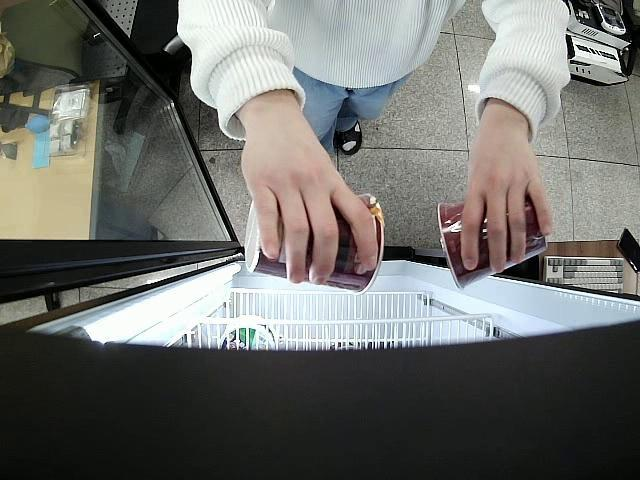06_nuguri_S: (244, 191, 383, 296), (438, 198, 544, 292)
